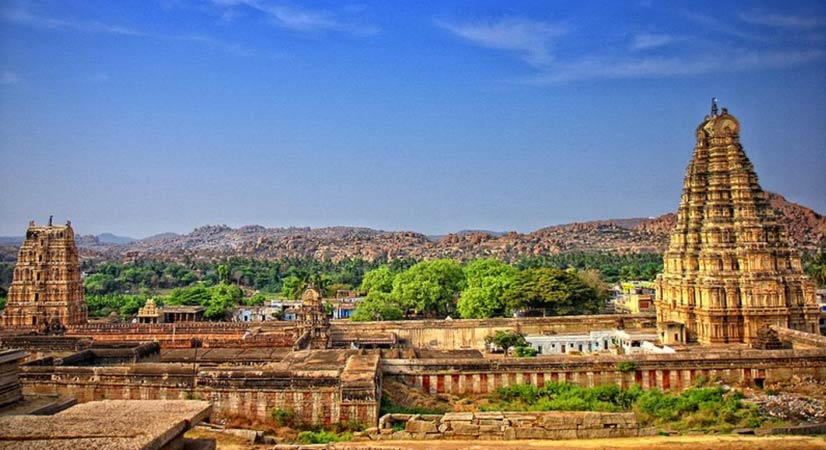Temple: (643, 103, 806, 347), (9, 215, 88, 332)
